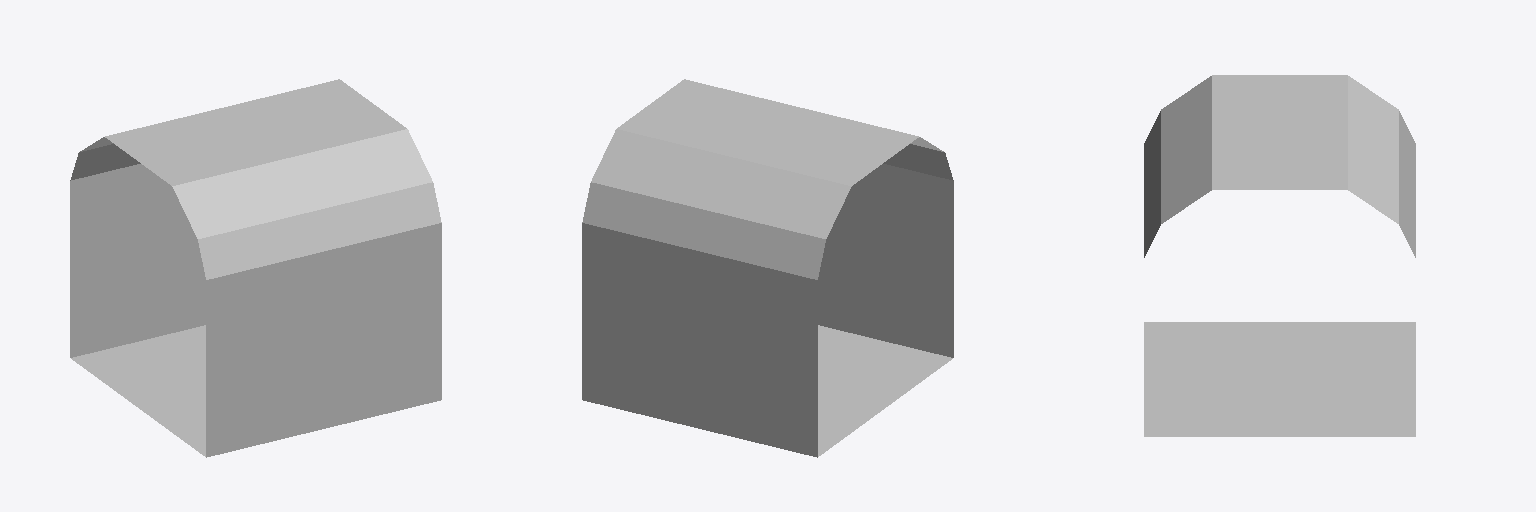
File: corridor_straight.obj
The picture shows the model from 3 angles: view 1: azimuth 30°, elevation 25°; view 2: azimuth 150°, elevation 25°; view 3: azimuth 270°, elevation 25°; orthographic projection.
Parts seen in each view (by area): view 1: Cube; view 2: Cube; view 3: Cube.
Boxes of the visible parts, <box> form: Cube: <box>70,79,441,457</box>; Cube: <box>582,79,953,457</box>; Cube: <box>1144,75,1415,436</box>.
Bounding box in the file's own units: 10 × 10 × 10.